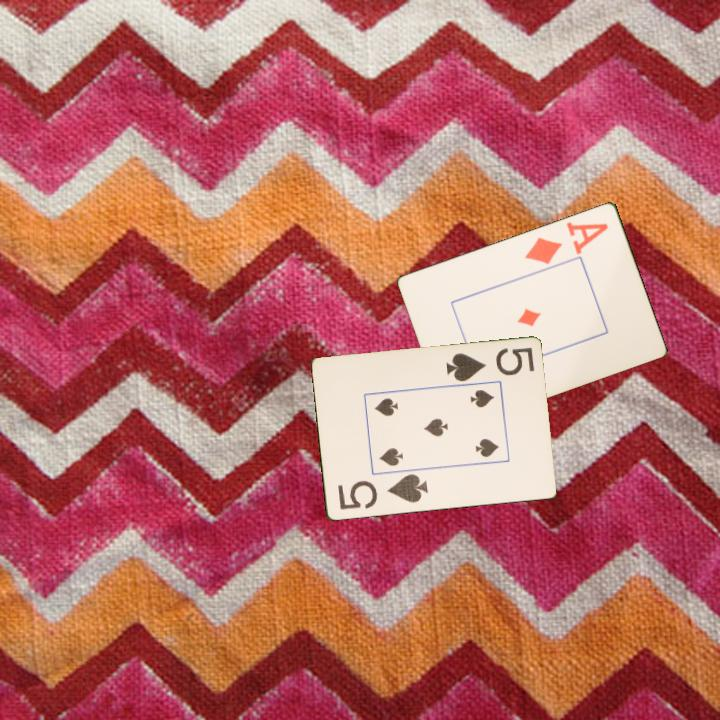5s: (334, 471, 431, 513), (442, 344, 537, 385)
Ad: (521, 218, 611, 267)
